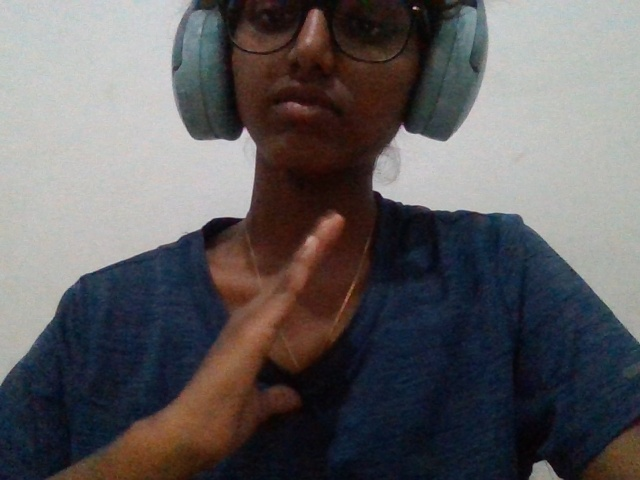Fine: (98, 198, 394, 468)
